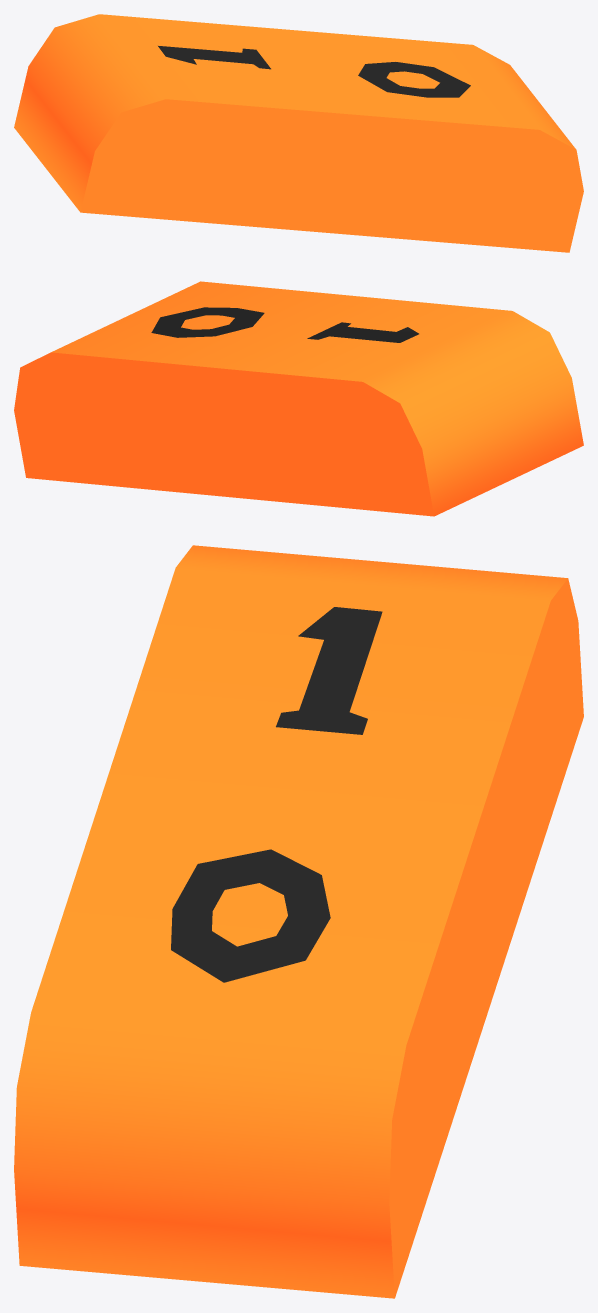
The model's file is button_movebale.fbx.
The picture shows the model from 3 angles, top to bottom: view 1: azimuth 30°, elevation 25°; view 2: azimuth 150°, elevation 25°; view 3: azimuth 270°, elevation 25°; orthographic projection. The views are drawn at different scales.
Parts seen in each view (by area): view 1: Cube.014; view 2: Cube.014; view 3: Cube.014.
Part boxes in pixels (box(x1,y1,x2,y2)): Cube.014: box(14, 14, 583, 252); Cube.014: box(14, 281, 583, 516); Cube.014: box(14, 545, 583, 1298).
Bounding box in the file's own units: 29.44 × 12.13 × 16.5.
